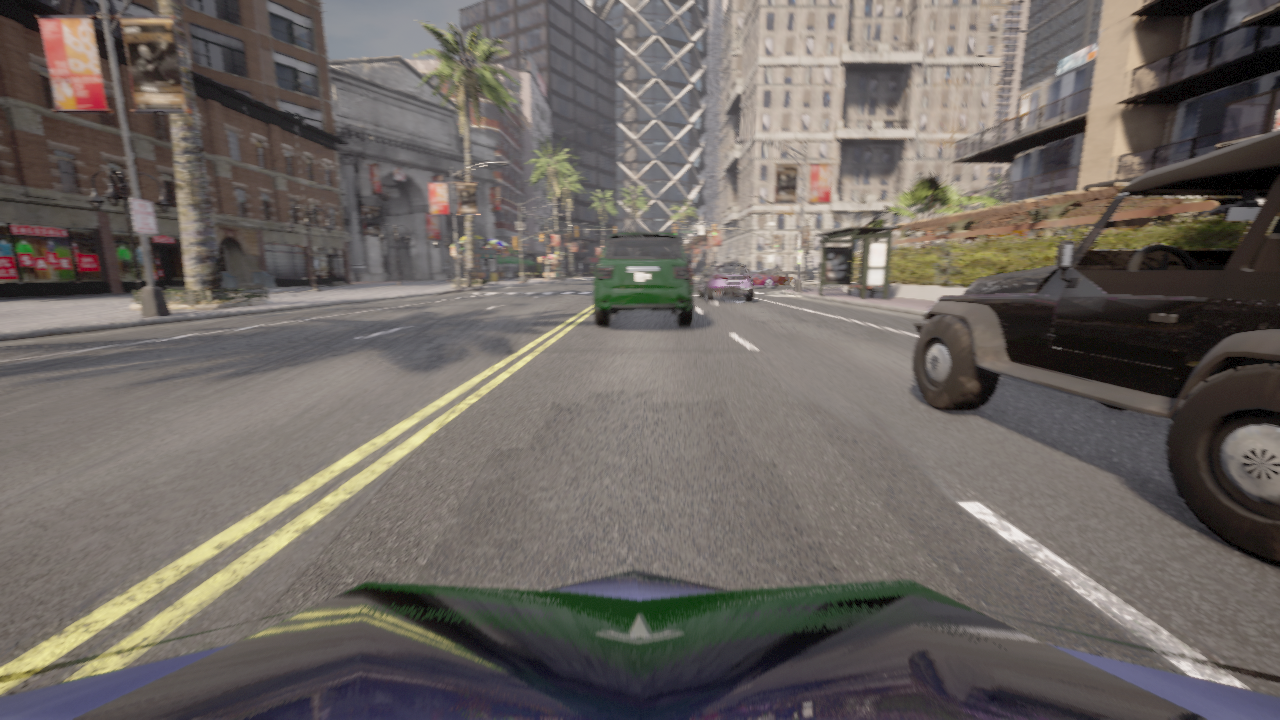cyclist: (0, 569, 1279, 719), (913, 130, 1279, 566), (594, 232, 693, 326), (698, 262, 753, 301), (750, 269, 796, 287), (748, 270, 751, 272)
